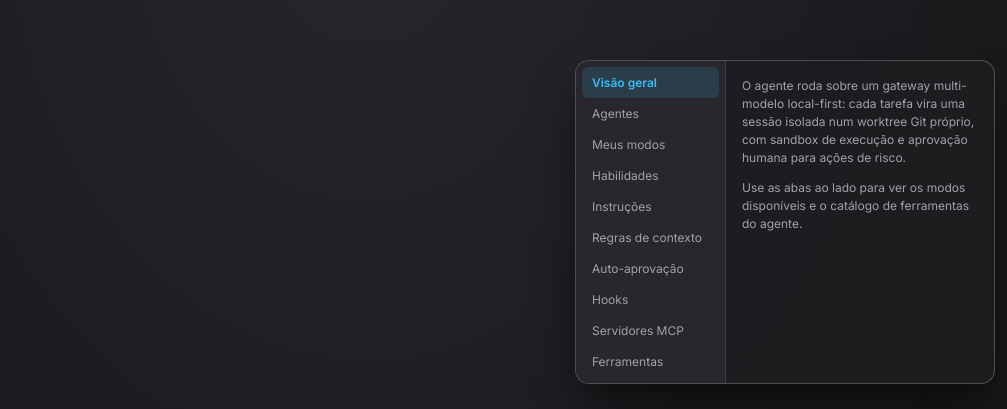
it: CustomizationsPopover — aba Regras de contexto (Fase 4) › pede para selecionar um projeto quando nenhum está ativo
The width and height of the screenshot is (1007, 409).
What coordinates should you click on to do the following:
click the button "Regras de contexto"
I would click on:
 (650, 238)
Its box is [582,222,719,253].
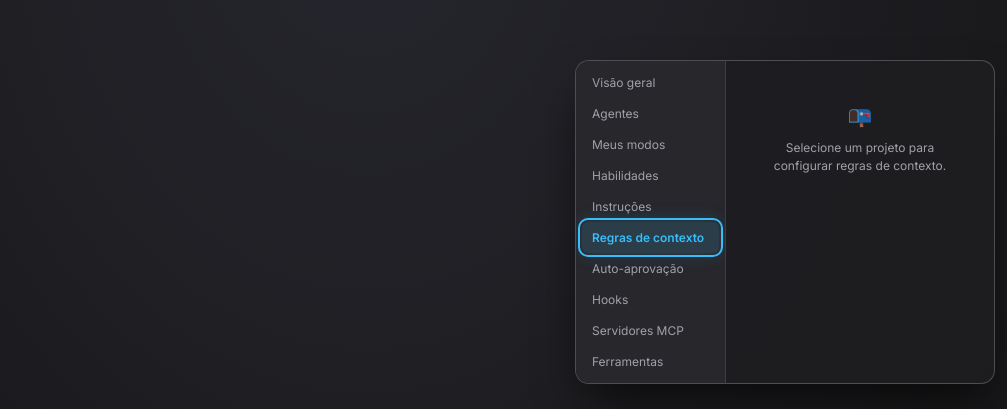
Now the text "Selecione um projeto para configurar regras de contexto." is shown, box [774,140,946,173]
